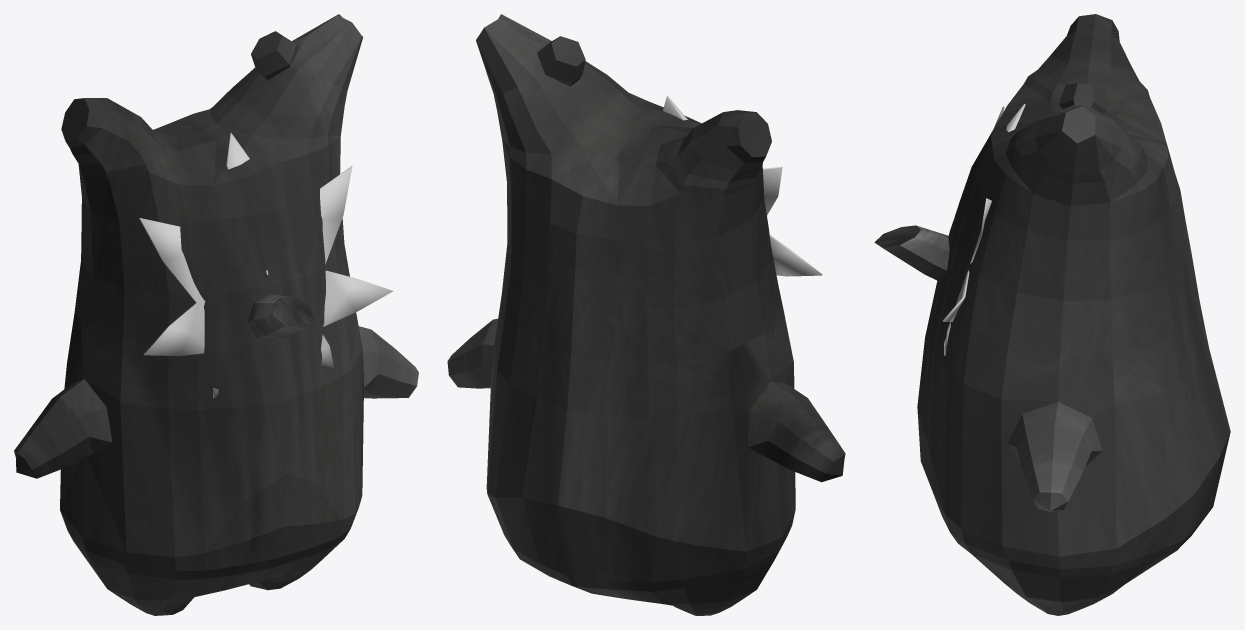
File: frame_0155.obj
The picture shows the model from 3 angles, left to right: view 1: azimuth 30°, elevation 25°; view 2: azimuth 150°, elevation 25°; view 3: azimuth 270°, elevation 25°; orthographic projection. The views are drawn at different scales.
Parts seen in each view (by area): view 1: korok, leaf.003_柱体.013, nose.003_柱体.011; view 2: korok, leaf.003_柱体.013; view 3: korok, nose.003_柱体.011, leaf.003_柱体.013.
Boxes of the visible parts, left/top/right/bottom form: korok: left=14, top=14, right=418, bottom=615; leaf.003_柱体.013: left=139, top=133, right=393, bottom=397; nose.003_柱体.011: left=247, top=294, right=314, bottom=340; korok: left=447, top=14, right=845, bottom=615; leaf.003_柱体.013: left=663, top=95, right=822, bottom=276; korok: left=917, top=14, right=1230, bottom=615; nose.003_柱体.011: left=874, top=225, right=949, bottom=282; leaf.003_柱体.013: left=942, top=104, right=1025, bottom=355.
Bounding box in the file's own units: 1.68 × 2.24 × 1.33.
